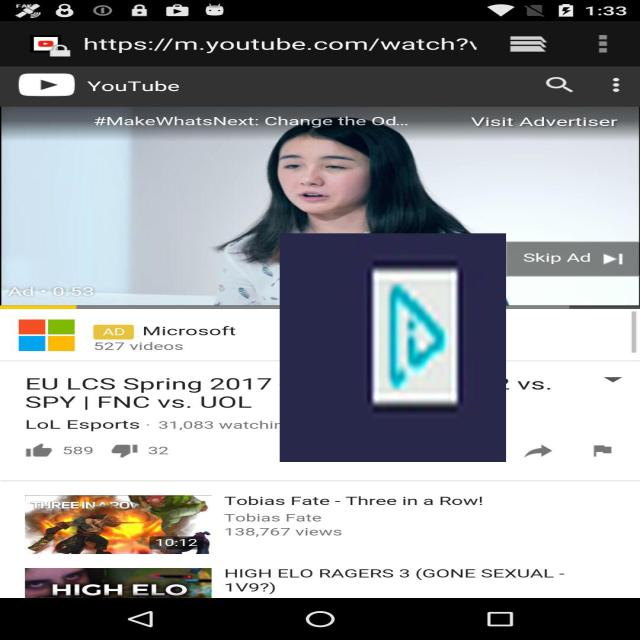sneaking: (280, 233, 506, 462)
